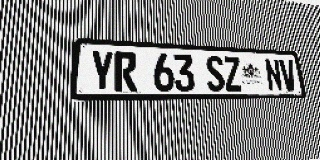3: (173, 54, 195, 91)
6: (153, 53, 175, 92)
N: (264, 58, 283, 91)
R: (114, 51, 137, 92)
S: (205, 55, 226, 91)
V: (279, 59, 298, 91)
Y: (90, 50, 114, 92)
Z: (223, 56, 243, 91)
